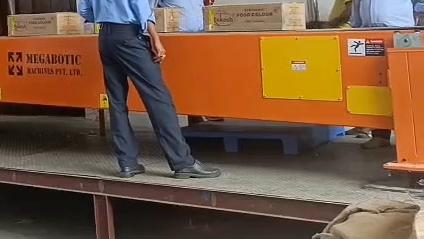box: (204, 3, 305, 31), (8, 12, 83, 36), (155, 8, 182, 31)
